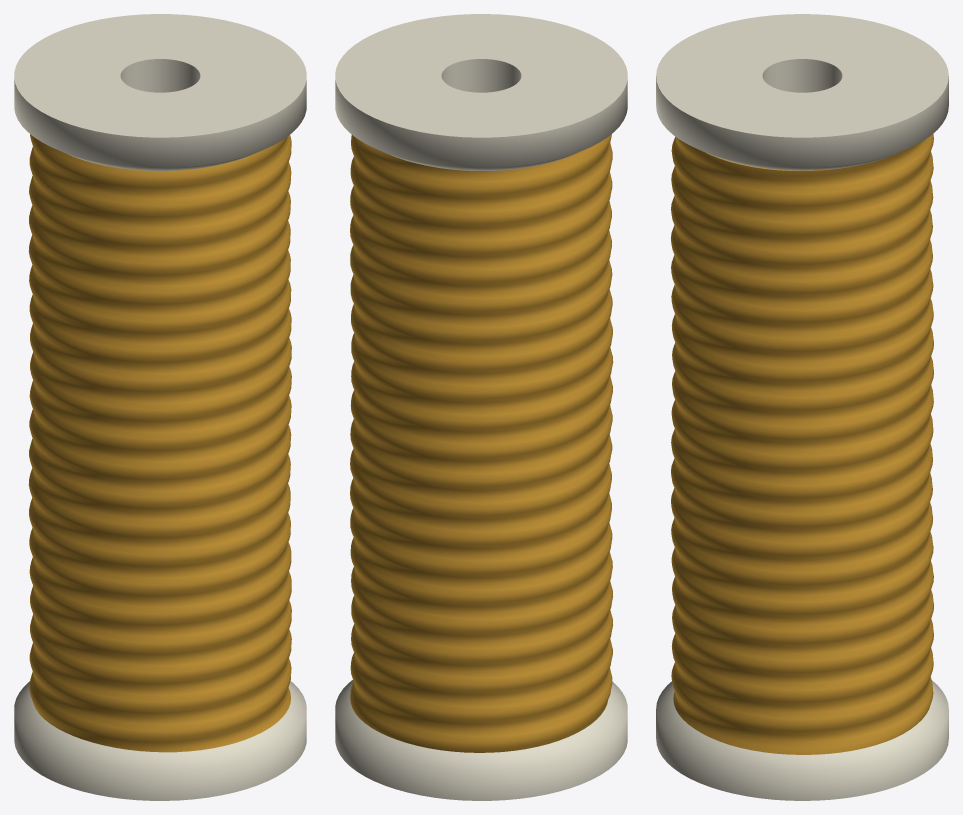
3 renders of one model, left to right at view 1: azimuth 30°, elevation 25°; view 2: azimuth 150°, elevation 25°; view 3: azimuth 270°, elevation 25°, orthographic.
Parts seen in each view (by area): view 1: Wound thread with helical surface grooves, Through-bore core with two end flanges; view 2: Wound thread with helical surface grooves, Through-bore core with two end flanges; view 3: Wound thread with helical surface grooves, Through-bore core with two end flanges.
Boxes of the visible parts, box(x1,y1,x2,y2) form: Wound thread with helical surface grooves: box(28, 134, 291, 752); Through-bore core with two end flanges: box(14, 14, 306, 800); Wound thread with helical surface grooves: box(350, 134, 613, 752); Through-bore core with two end flanges: box(335, 14, 627, 800); Wound thread with helical surface grooves: box(671, 133, 933, 754); Through-bore core with two end flanges: box(656, 14, 948, 800).
Size of the model in its own units: 0.022 by 0.055 by 0.022.
